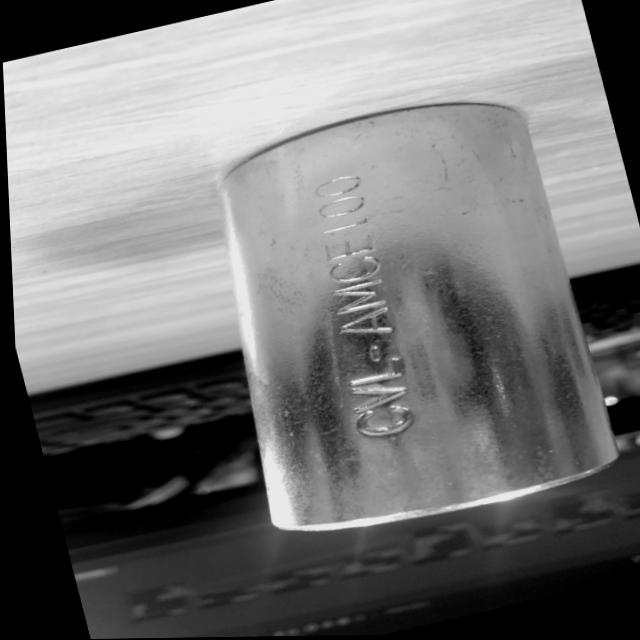Co_Nho: (199, 81, 619, 543)
